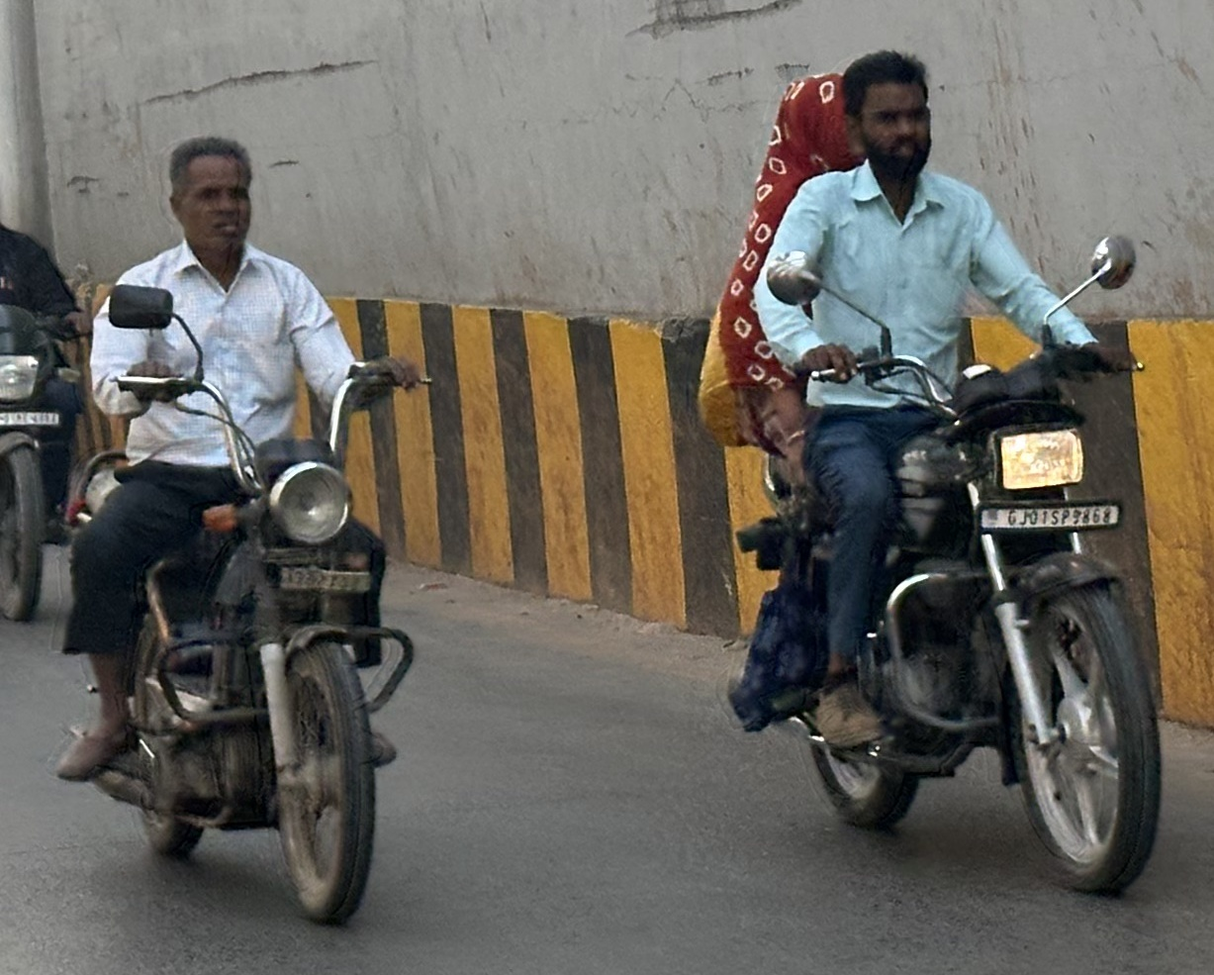BikeWithRider: (690, 43, 1171, 902), (45, 125, 437, 929)
NoHelmet: (837, 44, 937, 182), (162, 130, 264, 254), (772, 67, 871, 175)
